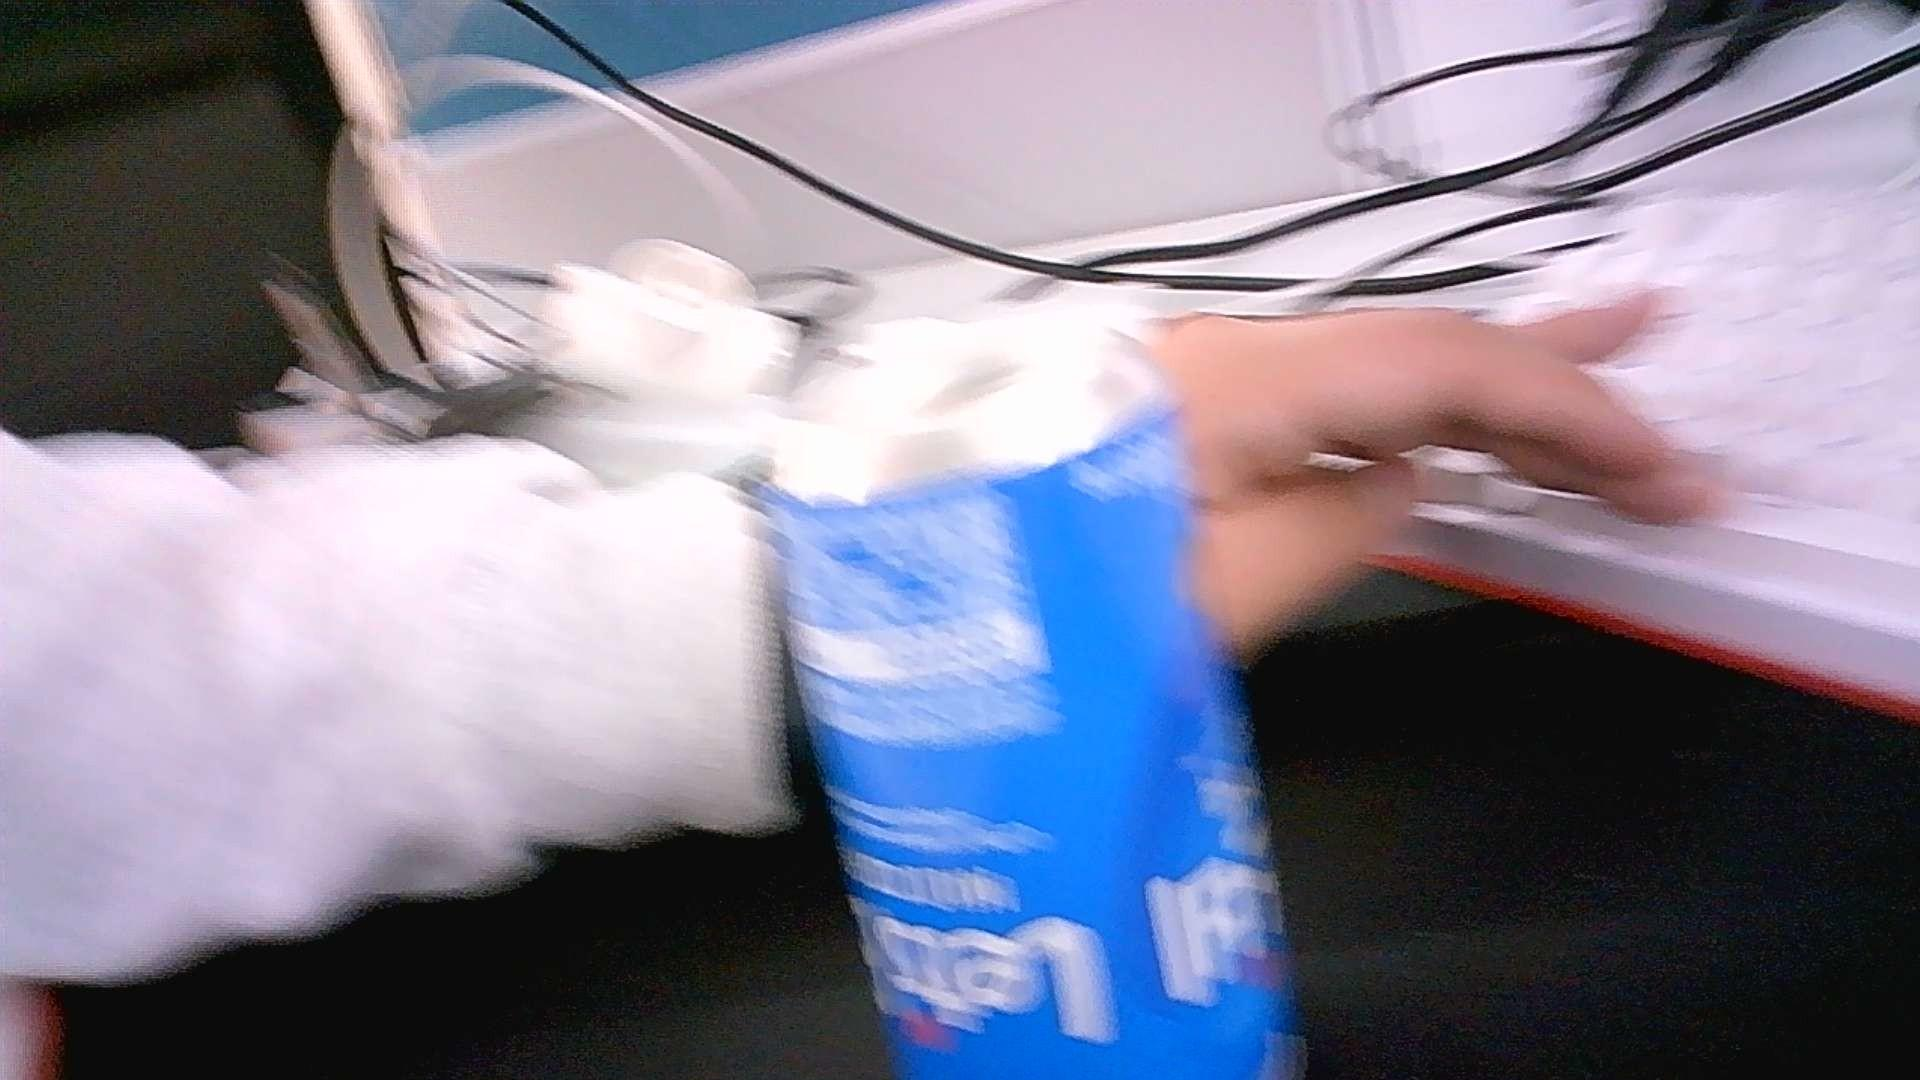letsbe: (763, 319, 1308, 1080)
